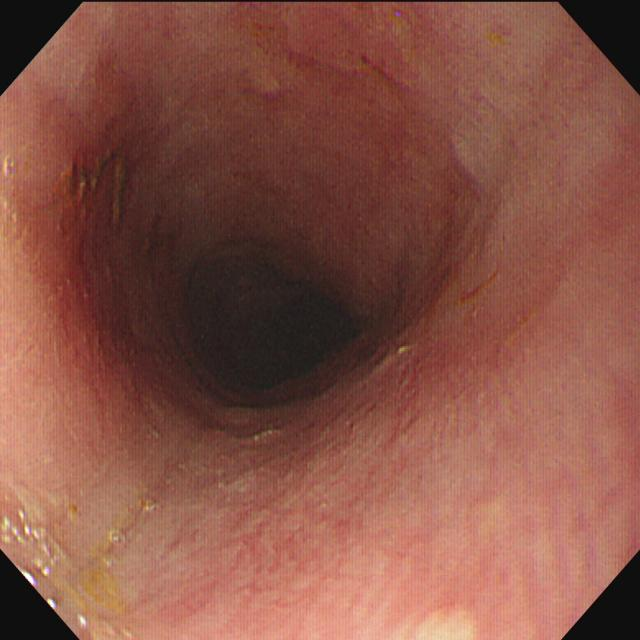E: (170, 215, 379, 431)
J: (51, 151, 132, 227)
U: (2, 516, 92, 631)
